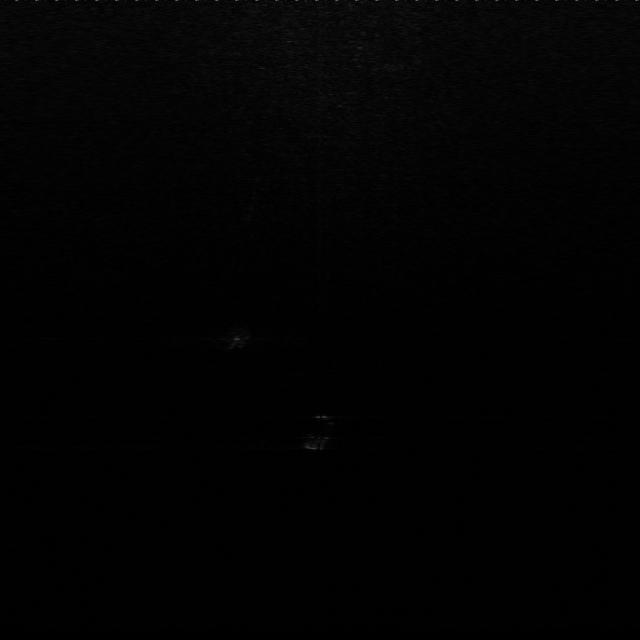circle cage: (218, 321, 261, 354)
tyre: (298, 408, 339, 454)
